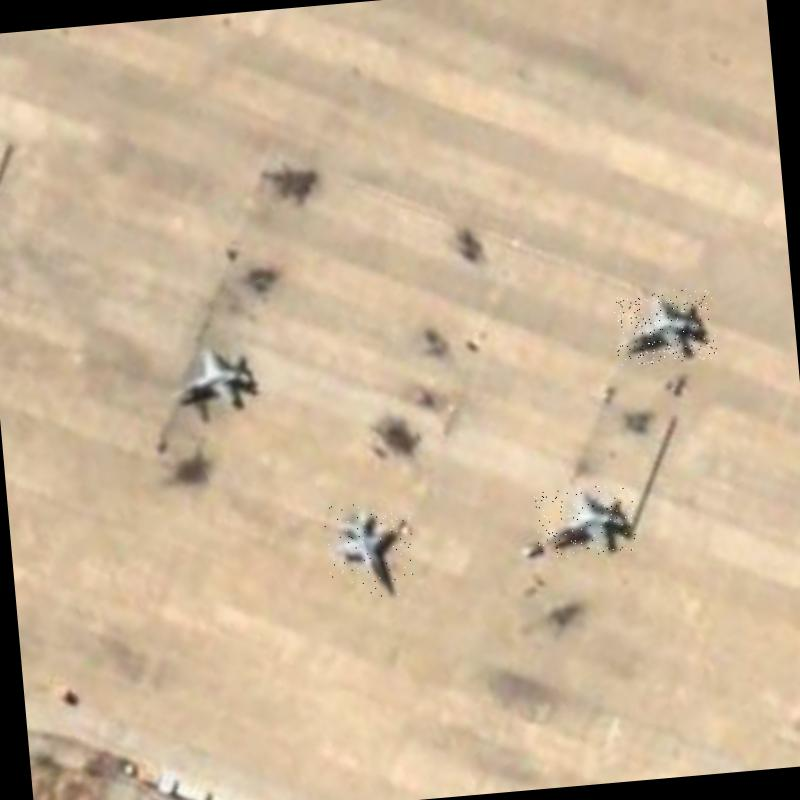A16: (323, 500, 417, 602), (158, 336, 268, 418), (612, 286, 718, 366), (534, 484, 639, 560)
